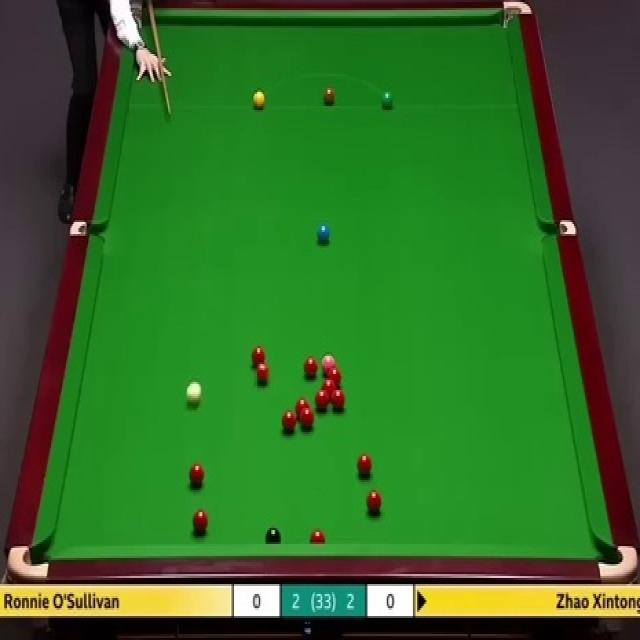black-ball: (265, 526, 281, 546)
blue-ball: (316, 224, 329, 246)
brown-ball: (324, 89, 335, 108)
green-ball: (381, 90, 396, 110)
pink-ball: (321, 352, 336, 369)
red-ball: (192, 508, 210, 536), (366, 488, 383, 514), (280, 409, 297, 434), (357, 451, 373, 477), (315, 389, 330, 415), (299, 407, 315, 431), (189, 462, 204, 487), (256, 364, 272, 387), (250, 346, 266, 368), (309, 526, 326, 546), (328, 385, 344, 406), (304, 356, 318, 377), (322, 380, 337, 398), (327, 368, 342, 383), (294, 398, 310, 412)
white-ball: (185, 379, 202, 406)
yellow-ball: (252, 89, 266, 108)
